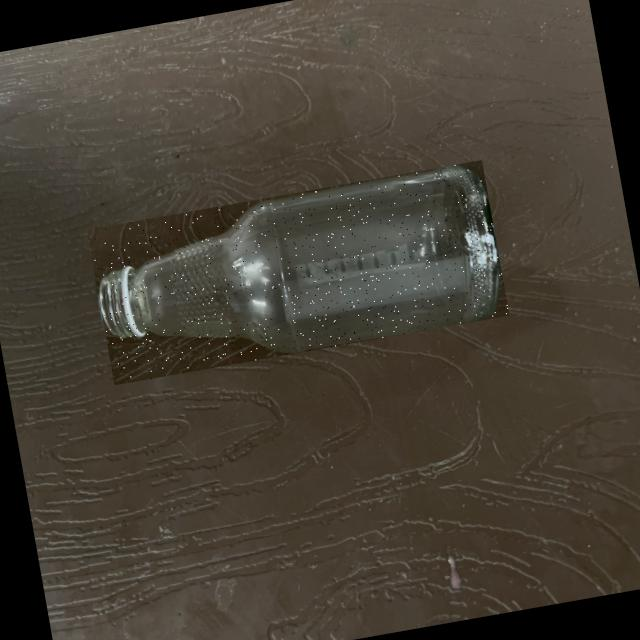Glass_Bottle: (100, 166, 499, 352)
